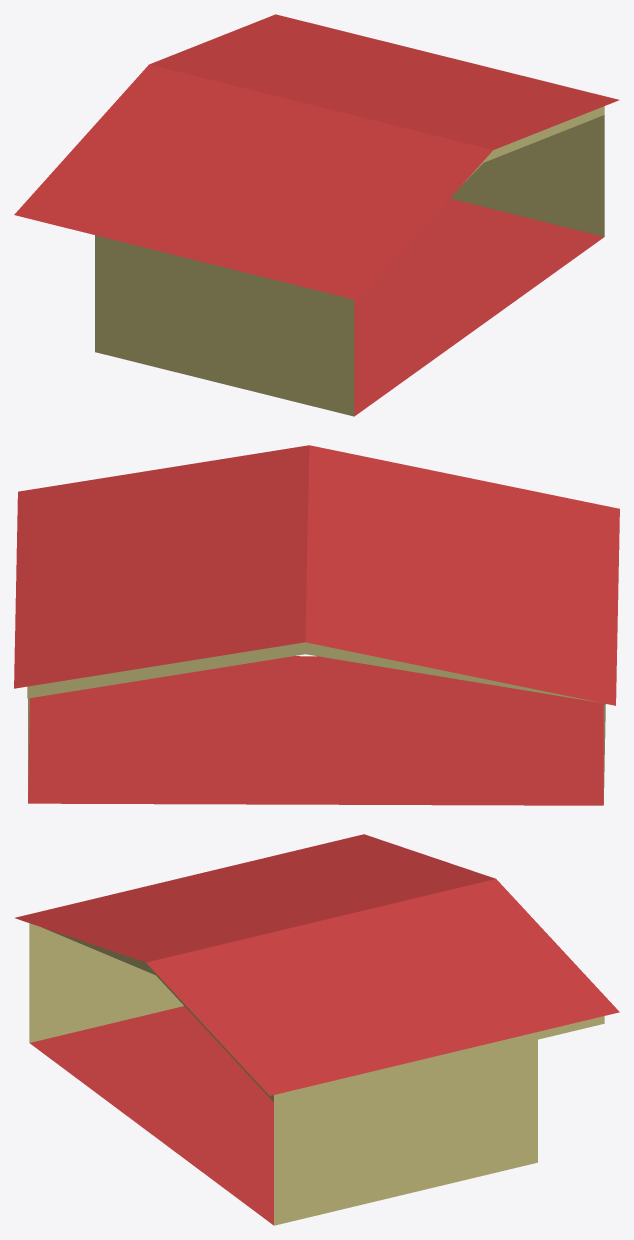
3 views of the same model, one above another, from view 1: azimuth 30°, elevation 25°; view 2: azimuth 150°, elevation 25°; view 3: azimuth 270°, elevation 25° (orthographic). The views are drawn at different scales.
Bounding box in the file's own units: 43.16 × 40.22 × 12.98.
